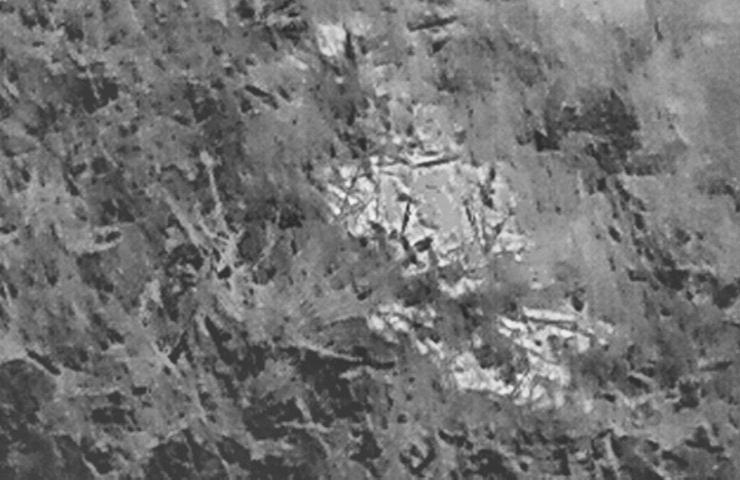landmines: (317, 116, 532, 282)
